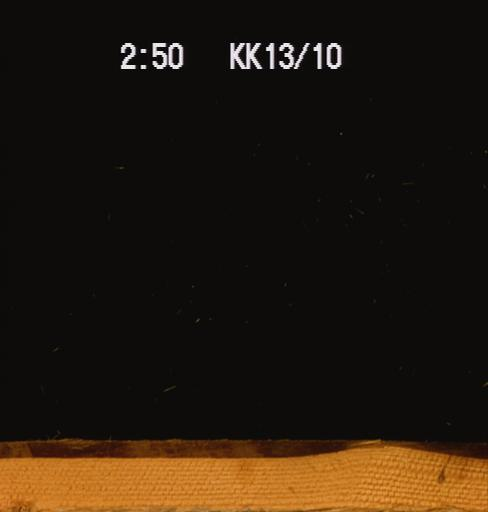wave: (1, 431, 487, 461)
